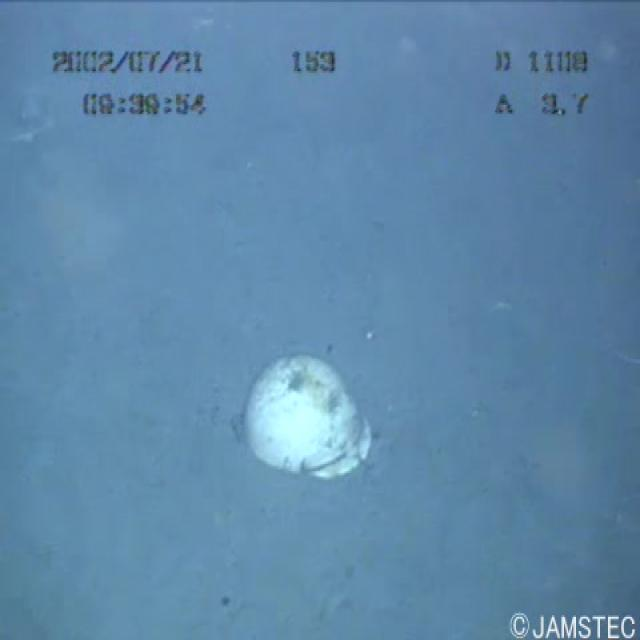plastic: (204, 340, 403, 492)
